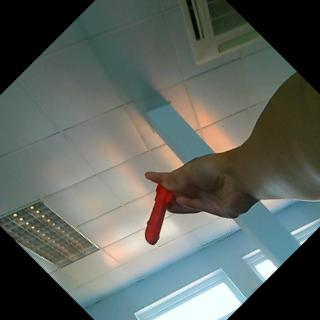Rocket: (120, 180, 189, 248)
